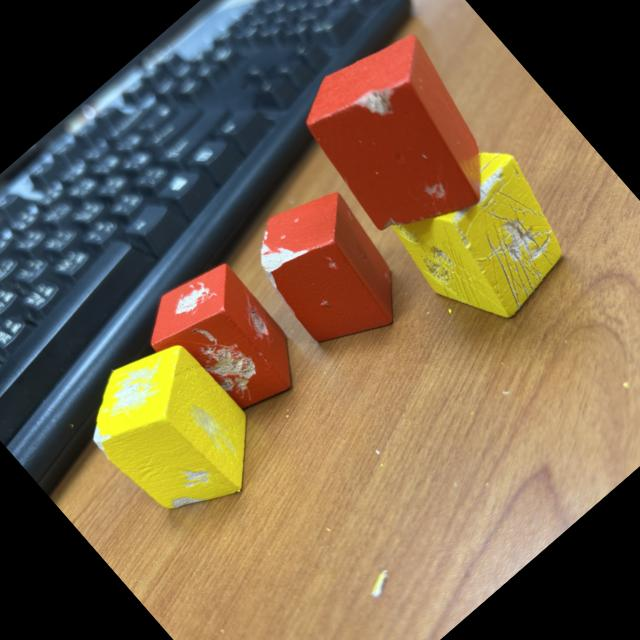broken: (279, 12, 527, 264), (371, 120, 593, 344), (64, 321, 283, 544), (235, 172, 426, 368), (131, 249, 318, 441)
